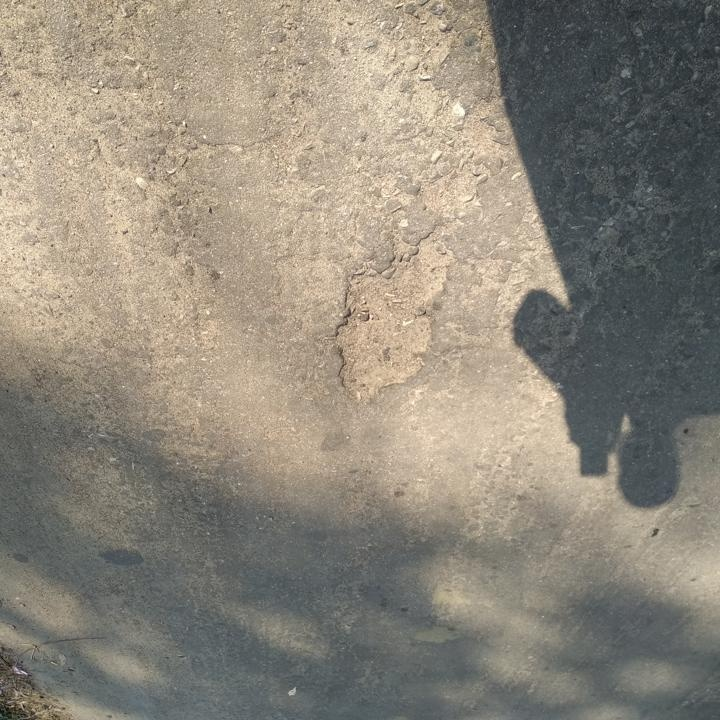pothole: (328, 233, 457, 406)
